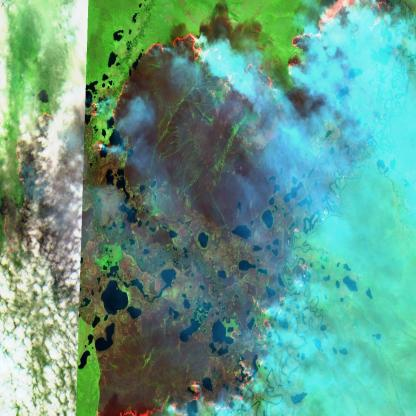fire: (8, 0, 395, 193), (114, 262, 314, 416)
